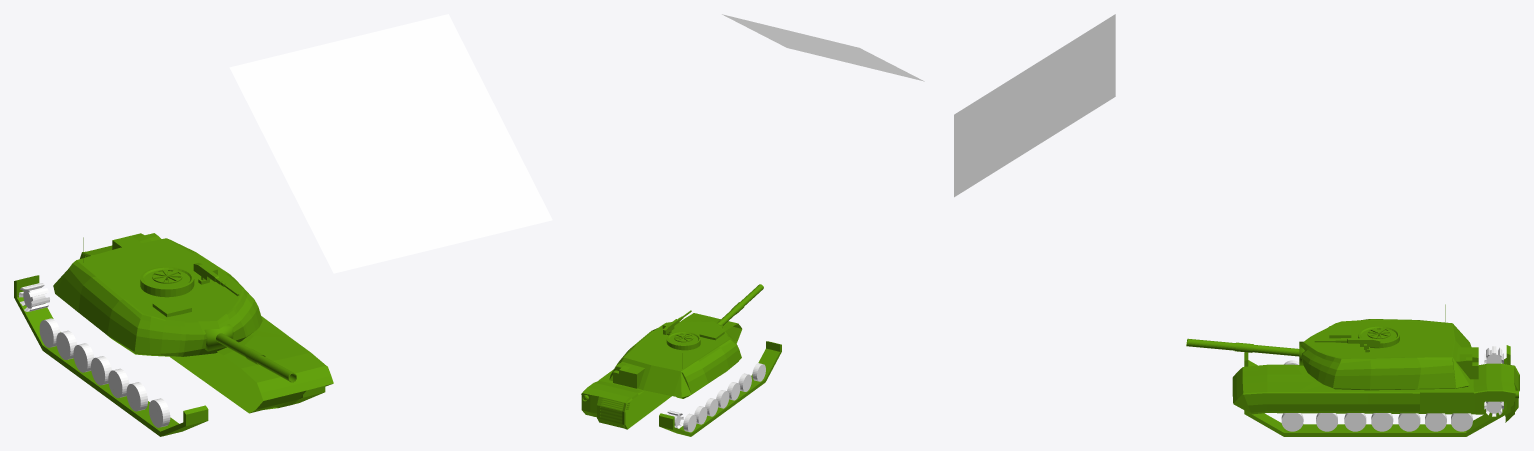
The picture shows the model from 3 angles, left to right: view 1: azimuth 30°, elevation 25°; view 2: azimuth 150°, elevation 25°; view 3: azimuth 270°, elevation 25°; orthographic projection. The views are drawn at different scales.
Parts seen in each view (by area): view 1: Plane.002, Plane.000, Plane.001, Cube.004, Cylinder, Cylinder.002, Cylinder.016, Cylinder.017; view 2: Plane.000, Plane.001, Plane.002, Cube.004, Cube, Cylinder; view 3: Plane.002, Plane.000, Plane.001, Cube.003, Cylinder, Cube.
Boxes of the visible parts, <box> form: Plane.002: <box>229,14,552,273</box>; Plane.000: <box>53,237,262,357</box>; Plane.001: <box>80,245,333,413</box>; Cube.004: <box>14,275,208,436</box>; Cylinder: <box>216,333,296,382</box>; Cylinder.002: <box>19,283,49,311</box>; Cylinder.016: <box>126,382,147,411</box>; Cylinder.017: <box>149,398,170,427</box>; Plane.000: <box>609,320,741,398</box>; Plane.001: <box>581,313,742,429</box>; Plane.002: <box>722,14,924,81</box>; Cube.004: <box>659,341,781,436</box>; Cube: <box>613,362,644,388</box>; Cylinder: <box>717,284,763,325</box>; Plane.002: <box>954,14,1115,197</box>; Plane.000: <box>1300,304,1471,390</box>; Plane.001: <box>1232,363,1519,422</box>; Cube.003: <box>1244,401,1510,436</box>; Cylinder: <box>1186,338,1299,356</box>; Cube: <box>1456,347,1478,379</box>.
Size of the model in its own units: 14.83 by 29.67 by 42.81.
